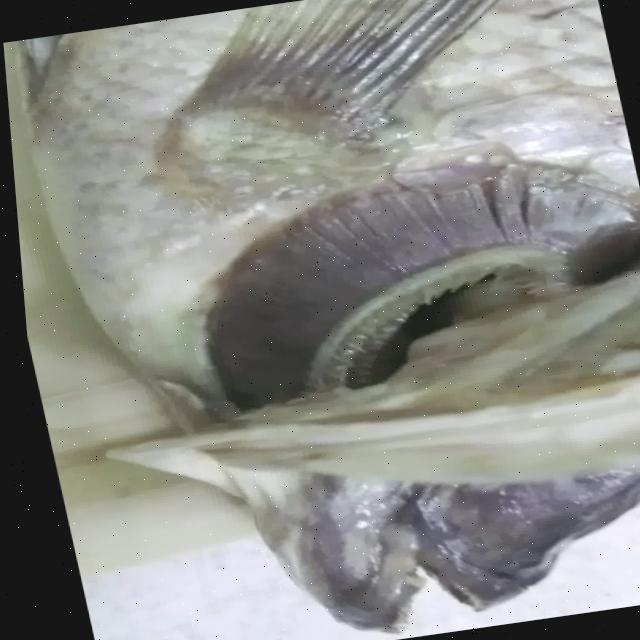Non-Fresh: (116, 105, 640, 415)
